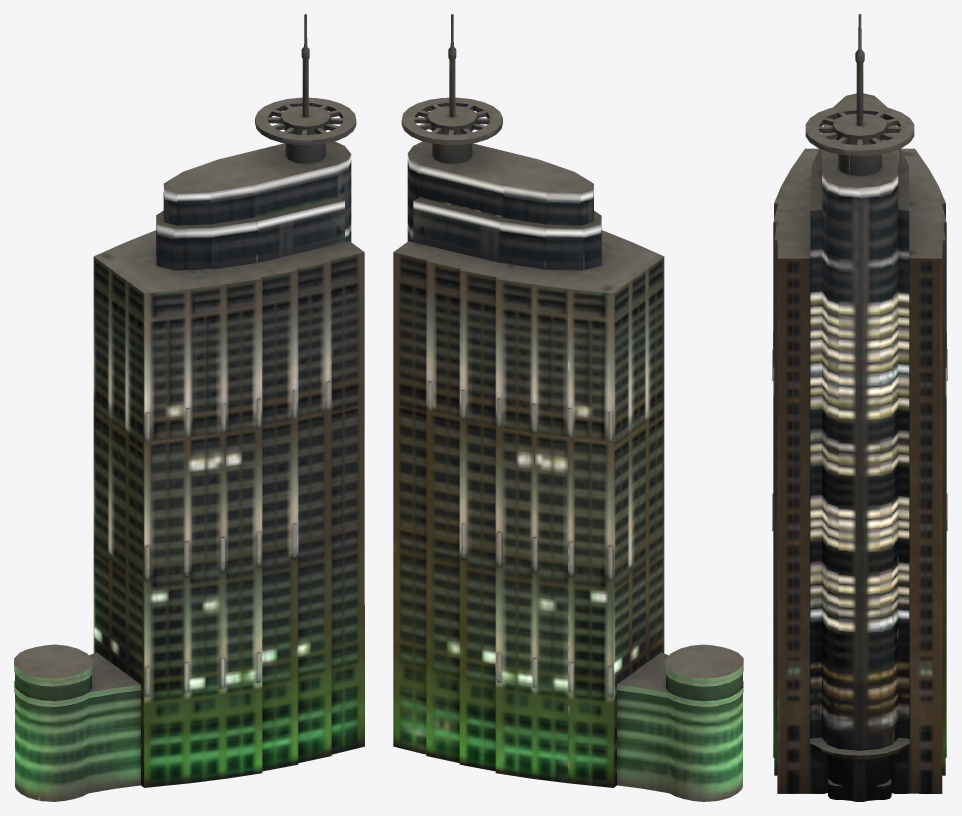
File: background_buildings_1_background_buildings_1_0_lev3.glb
3 views of the same model, side by side, from view 1: azimuth 30°, elevation 25°; view 2: azimuth 150°, elevation 25°; view 3: azimuth 270°, elevation 25° (orthographic). The views are drawn at different scales.
Parts seen in each view (by area): view 1: background_buildings_1_background_buildings_1_0_lev3; view 2: background_buildings_1_background_buildings_1_0_lev3; view 3: background_buildings_1_background_buildings_1_0_lev3.
Part boxes in pixels (<box>): background_buildings_1_background_buildings_1_0_lev3: <box>14,14,364,801</box>; background_buildings_1_background_buildings_1_0_lev3: <box>393,14,743,801</box>; background_buildings_1_background_buildings_1_0_lev3: <box>772,14,947,801</box>.
Bounding box in the file's own units: 16.11 × 32.68 × 6.76.
Materials: 1 (1 with a texture image).
